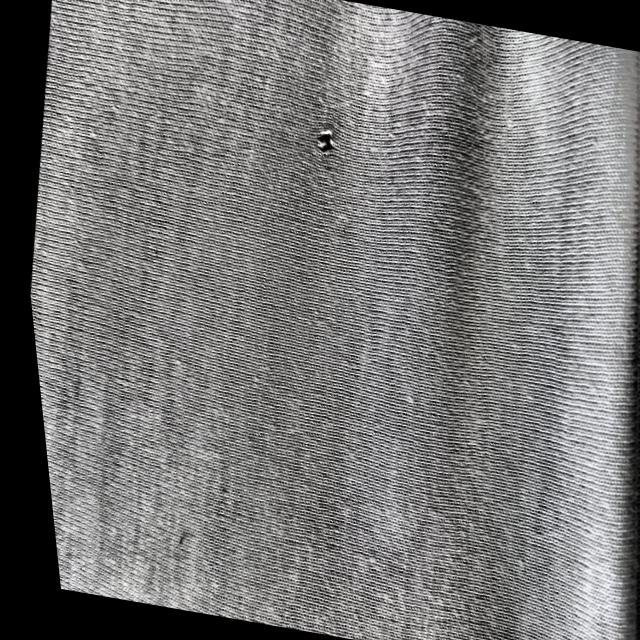Hole: (299, 118, 348, 164)
